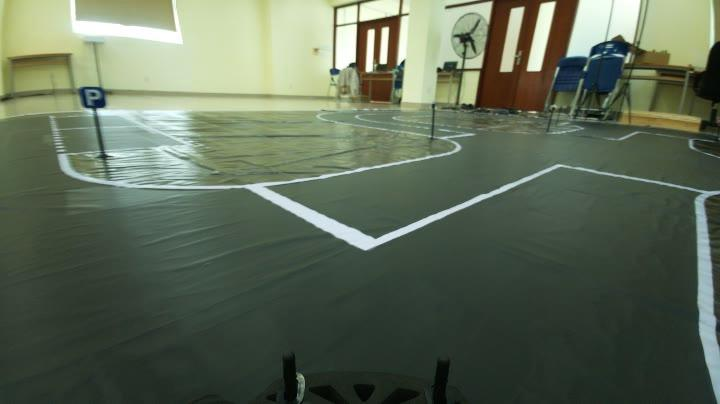parking: (78, 82, 111, 113)
